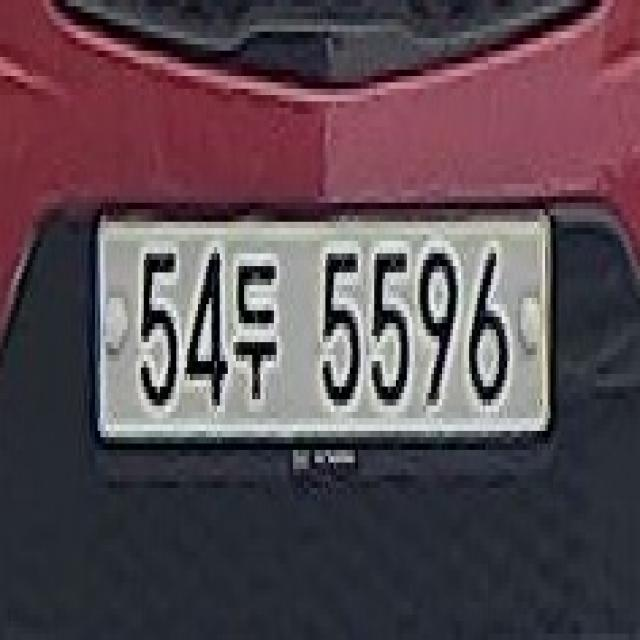4: (182, 247, 233, 425)
5: (130, 228, 190, 425), (369, 209, 420, 431), (317, 215, 366, 412)
6: (466, 247, 520, 412)
9: (412, 228, 464, 418)
du: (225, 240, 285, 406)
license_plate: (92, 190, 559, 475)
